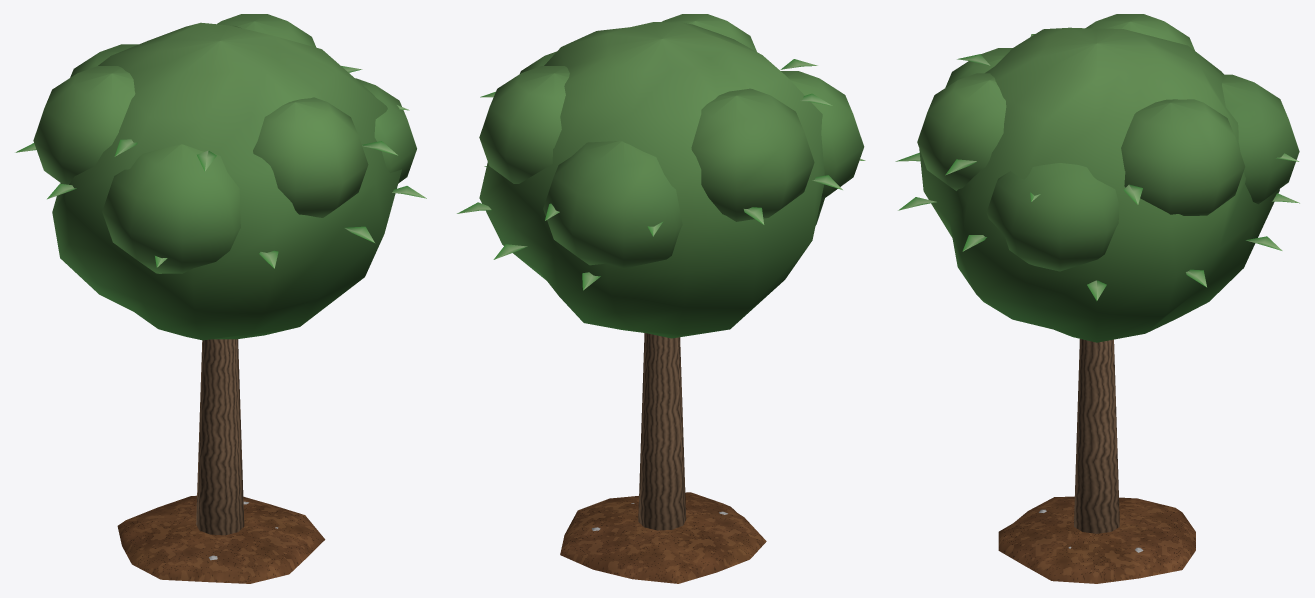
Rendered from plant-mango-4.glb.
3 views of the same model, side by side, from view 1: azimuth 30°, elevation 25°; view 2: azimuth 150°, elevation 25°; view 3: azimuth 270°, elevation 25° (orthographic).
Visible parts, largest first — view 1: plant-mango-4; view 2: plant-mango-4; view 3: plant-mango-4.
Part boxes in pixels (bbox=[...]): plant-mango-4: bbox=[15, 14, 426, 583]; plant-mango-4: bbox=[457, 14, 865, 583]; plant-mango-4: bbox=[895, 14, 1299, 583].
Bounding box in the file's own units: 2.02 × 2.71 × 2.
5 materials, 3 textured.
